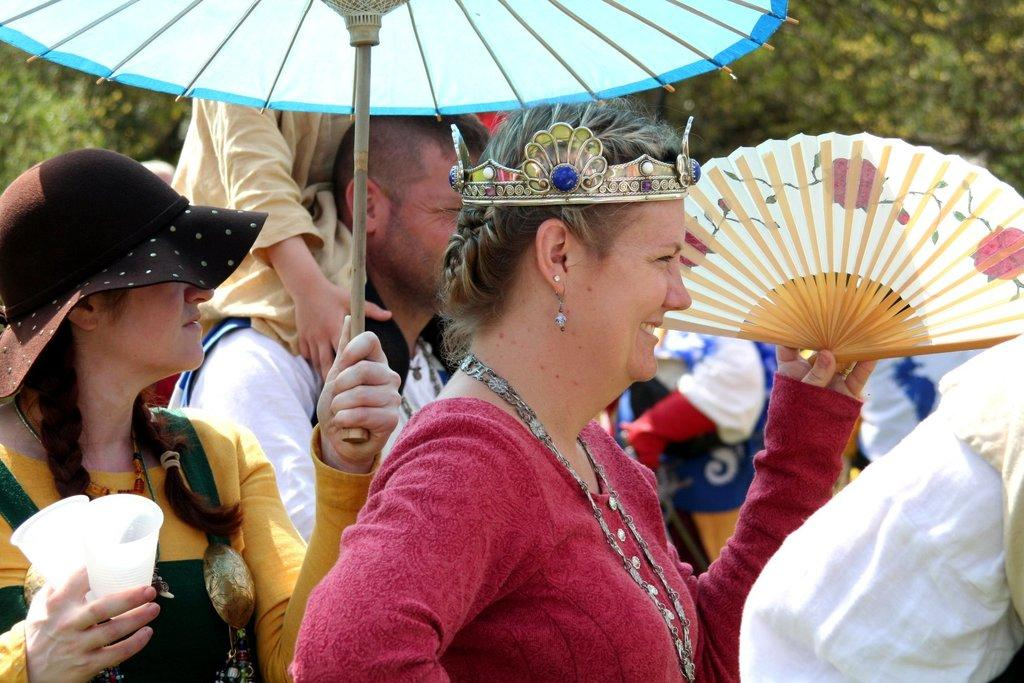Hat: (0, 146, 272, 393)
